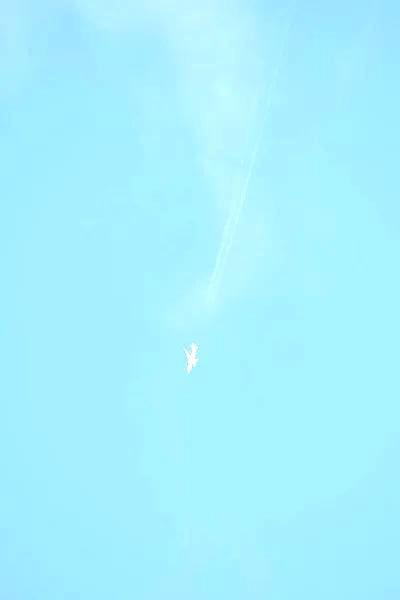Plane: (163, 333, 217, 382)
